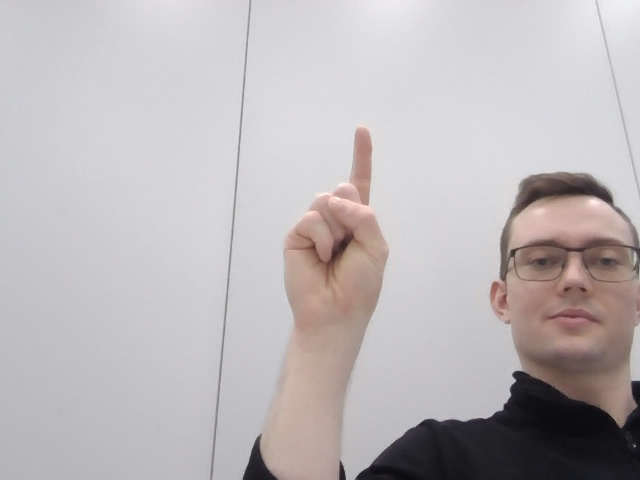up: (269, 99, 421, 358)
